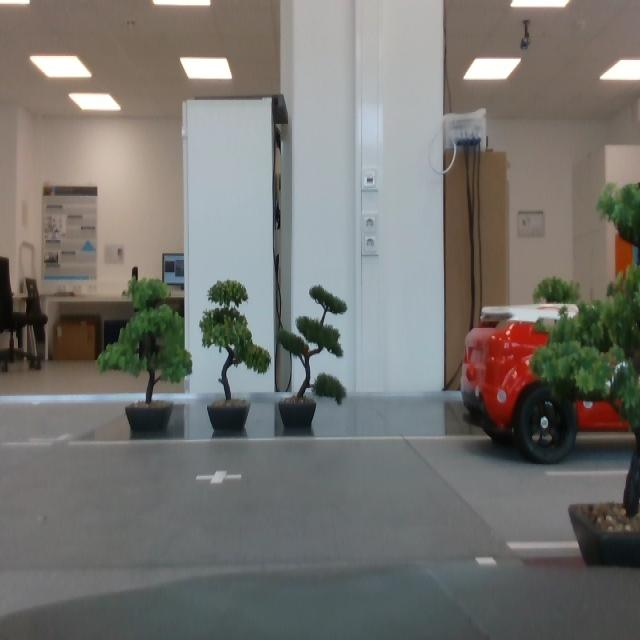car: (460, 302, 636, 465)
potted plant: (530, 180, 640, 517), (97, 276, 193, 432), (199, 279, 272, 431), (277, 284, 348, 428)
